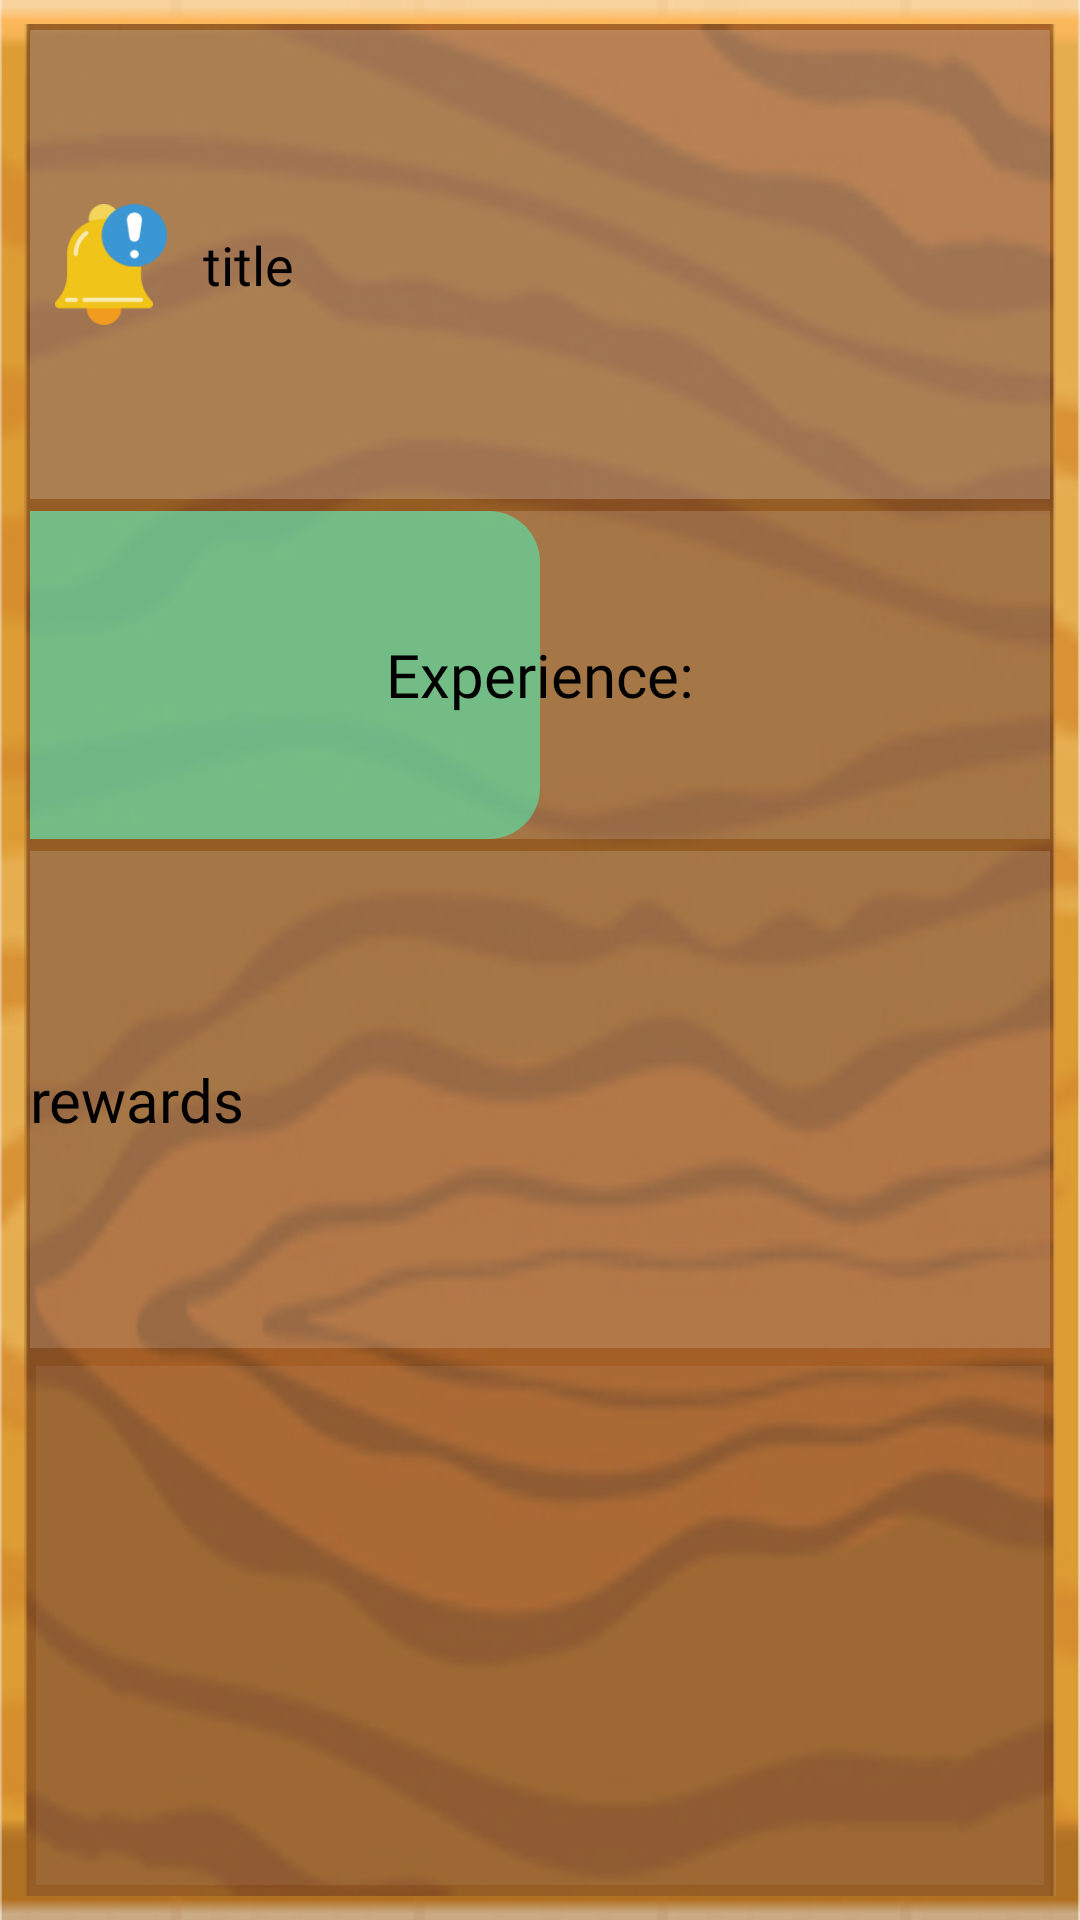

Icons on this 1080*1920 Android screen, each with the point to tap as (x=x, y=y):
alarm: (x=111, y=264)
